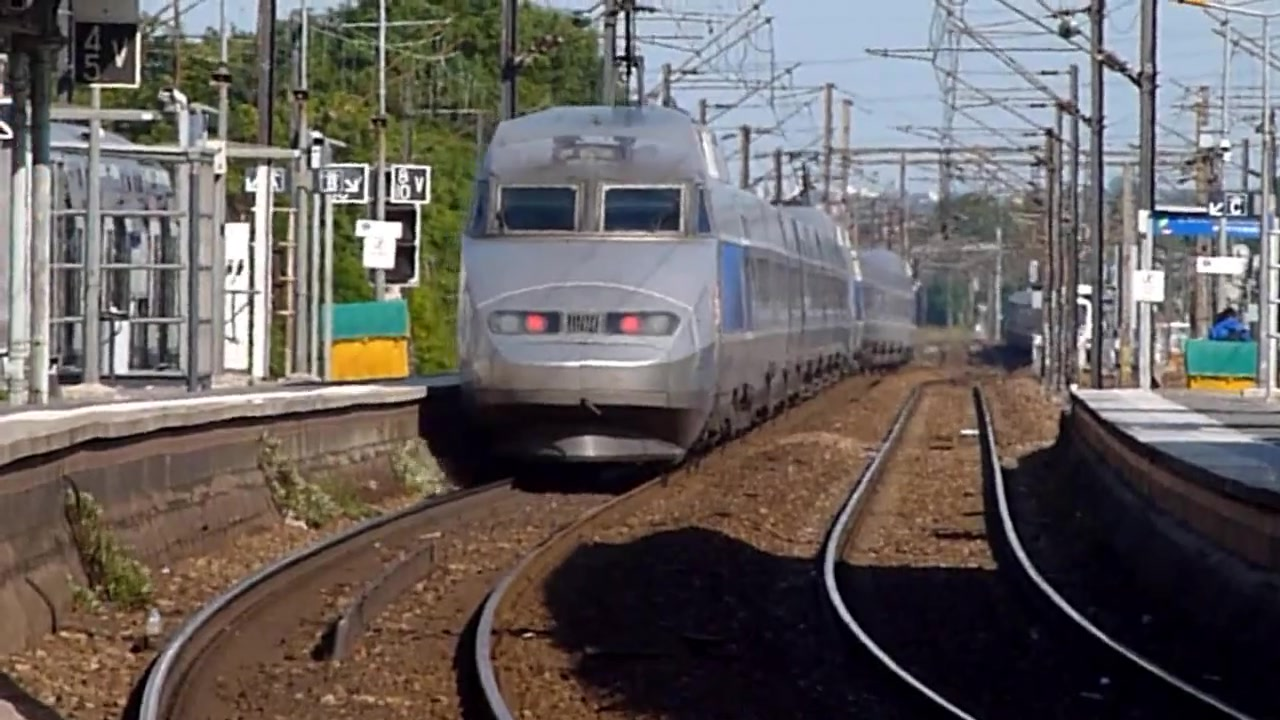train: (453, 108, 923, 469)
